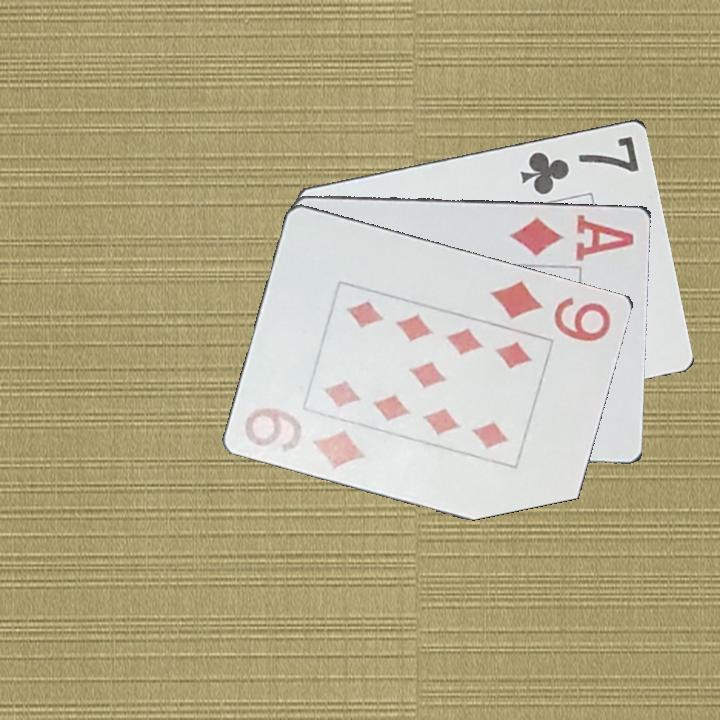7c: (516, 132, 643, 197)
9d: (486, 274, 614, 346), (241, 403, 369, 475)
Ad: (506, 210, 637, 263)
